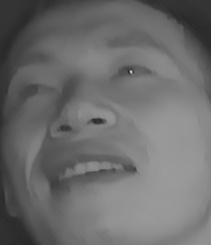eye: (11, 80, 57, 105), (108, 61, 156, 83)
mouth: (40, 146, 137, 201)
